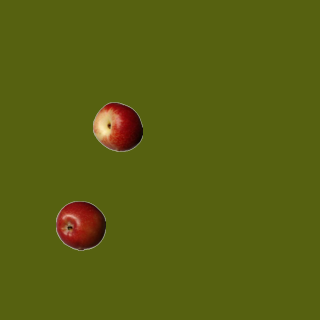Apple Braeburn: (55, 200, 105, 250)
Nectarine: (92, 101, 142, 151)
